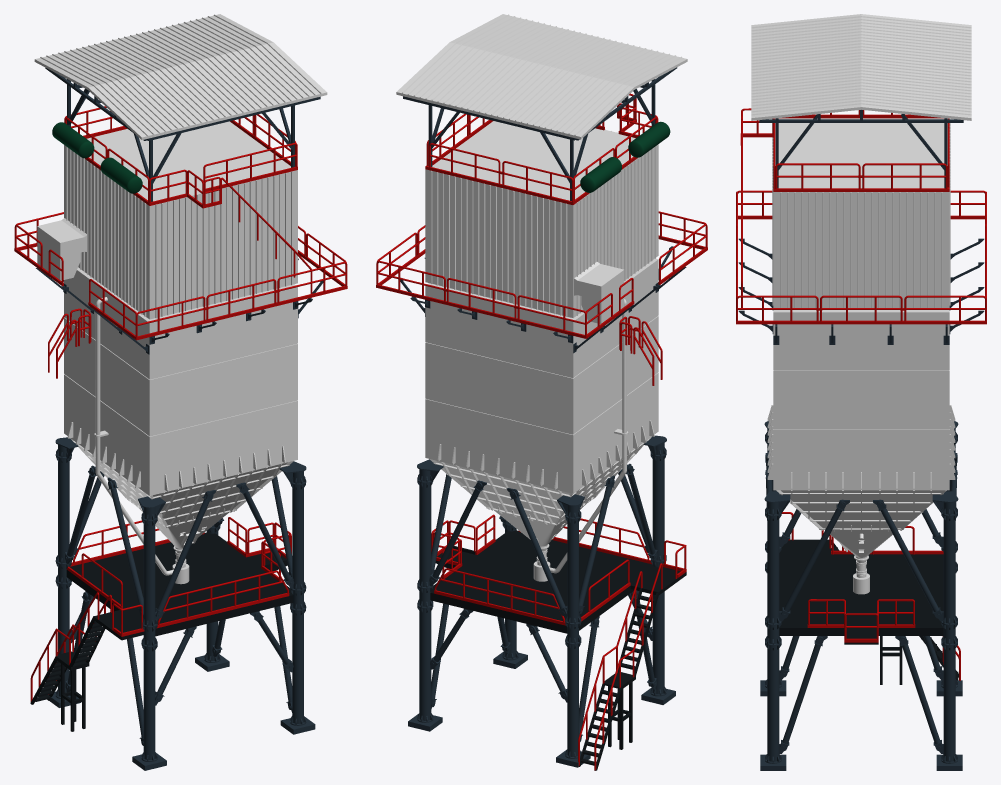
3 views of the same model, side by side, from view 1: azimuth 30°, elevation 25°; view 2: azimuth 150°, elevation 25°; view 3: azimuth 270°, elevation 25° (orthographic). The views are drawn at different scales.
Parts seen in each view (by area): view 1: Obj3d66-5391125-18-429, Obj3d66-5391125-22-307, Obj3d66-5391125-27-91, Obj3d66-5391125-20-669, Obj3d66-5391125-21-387, Obj3d66-5391125-29-729, Obj3d66-5391125-26-822, Obj3d66-5391125-31-400, Obj3d66-5391125-28-880, Obj3d66-5391125-19-715; view 2: Obj3d66-5391125-18-429, Obj3d66-5391125-22-307, Obj3d66-5391125-27-91, Obj3d66-5391125-20-669, Obj3d66-5391125-21-387, Obj3d66-5391125-29-729, Obj3d66-5391125-26-822, Obj3d66-5391125-31-400, Obj3d66-5391125-28-880, Obj3d66-5391125-19-715; view 3: Obj3d66-5391125-18-429, Obj3d66-5391125-27-91, Obj3d66-5391125-22-307, Obj3d66-5391125-21-387, Obj3d66-5391125-20-669, Obj3d66-5391125-19-715.
Boxes of the visible parts, x1,y1,x2,y2 form: Obj3d66-5391125-18-429: (64, 121, 297, 584); Obj3d66-5391125-22-307: (45, 67, 320, 770); Obj3d66-5391125-27-91: (34, 14, 327, 139); Obj3d66-5391125-20-669: (14, 106, 347, 701); Obj3d66-5391125-21-387: (30, 532, 292, 731); Obj3d66-5391125-29-729: (37, 218, 86, 280); Obj3d66-5391125-26-822: (52, 122, 142, 193); Obj3d66-5391125-31-400: (94, 297, 173, 575); Obj3d66-5391125-28-880: (48, 308, 91, 378); Obj3d66-5391125-19-715: (36, 258, 323, 354); Obj3d66-5391125-18-429: (425, 121, 658, 581); Obj3d66-5391125-22-307: (403, 67, 677, 767); Obj3d66-5391125-27-91: (396, 14, 687, 139); Obj3d66-5391125-20-669: (376, 93, 707, 770); Obj3d66-5391125-21-387: (430, 530, 686, 770); Obj3d66-5391125-29-729: (574, 262, 624, 323); Obj3d66-5391125-26-822: (580, 121, 670, 192); Obj3d66-5391125-31-400: (549, 299, 628, 573); Obj3d66-5391125-28-880: (619, 316, 662, 385); Obj3d66-5391125-19-715: (400, 246, 686, 353); Obj3d66-5391125-18-429: (767, 118, 955, 594); Obj3d66-5391125-27-91: (751, 14, 971, 120); Obj3d66-5391125-22-307: (759, 110, 963, 770); Obj3d66-5391125-21-387: (779, 539, 958, 684); Obj3d66-5391125-20-669: (736, 108, 986, 680); Obj3d66-5391125-19-715: (738, 238, 984, 344).
Bounding box in the file's own units: 136 × 370 × 126.
